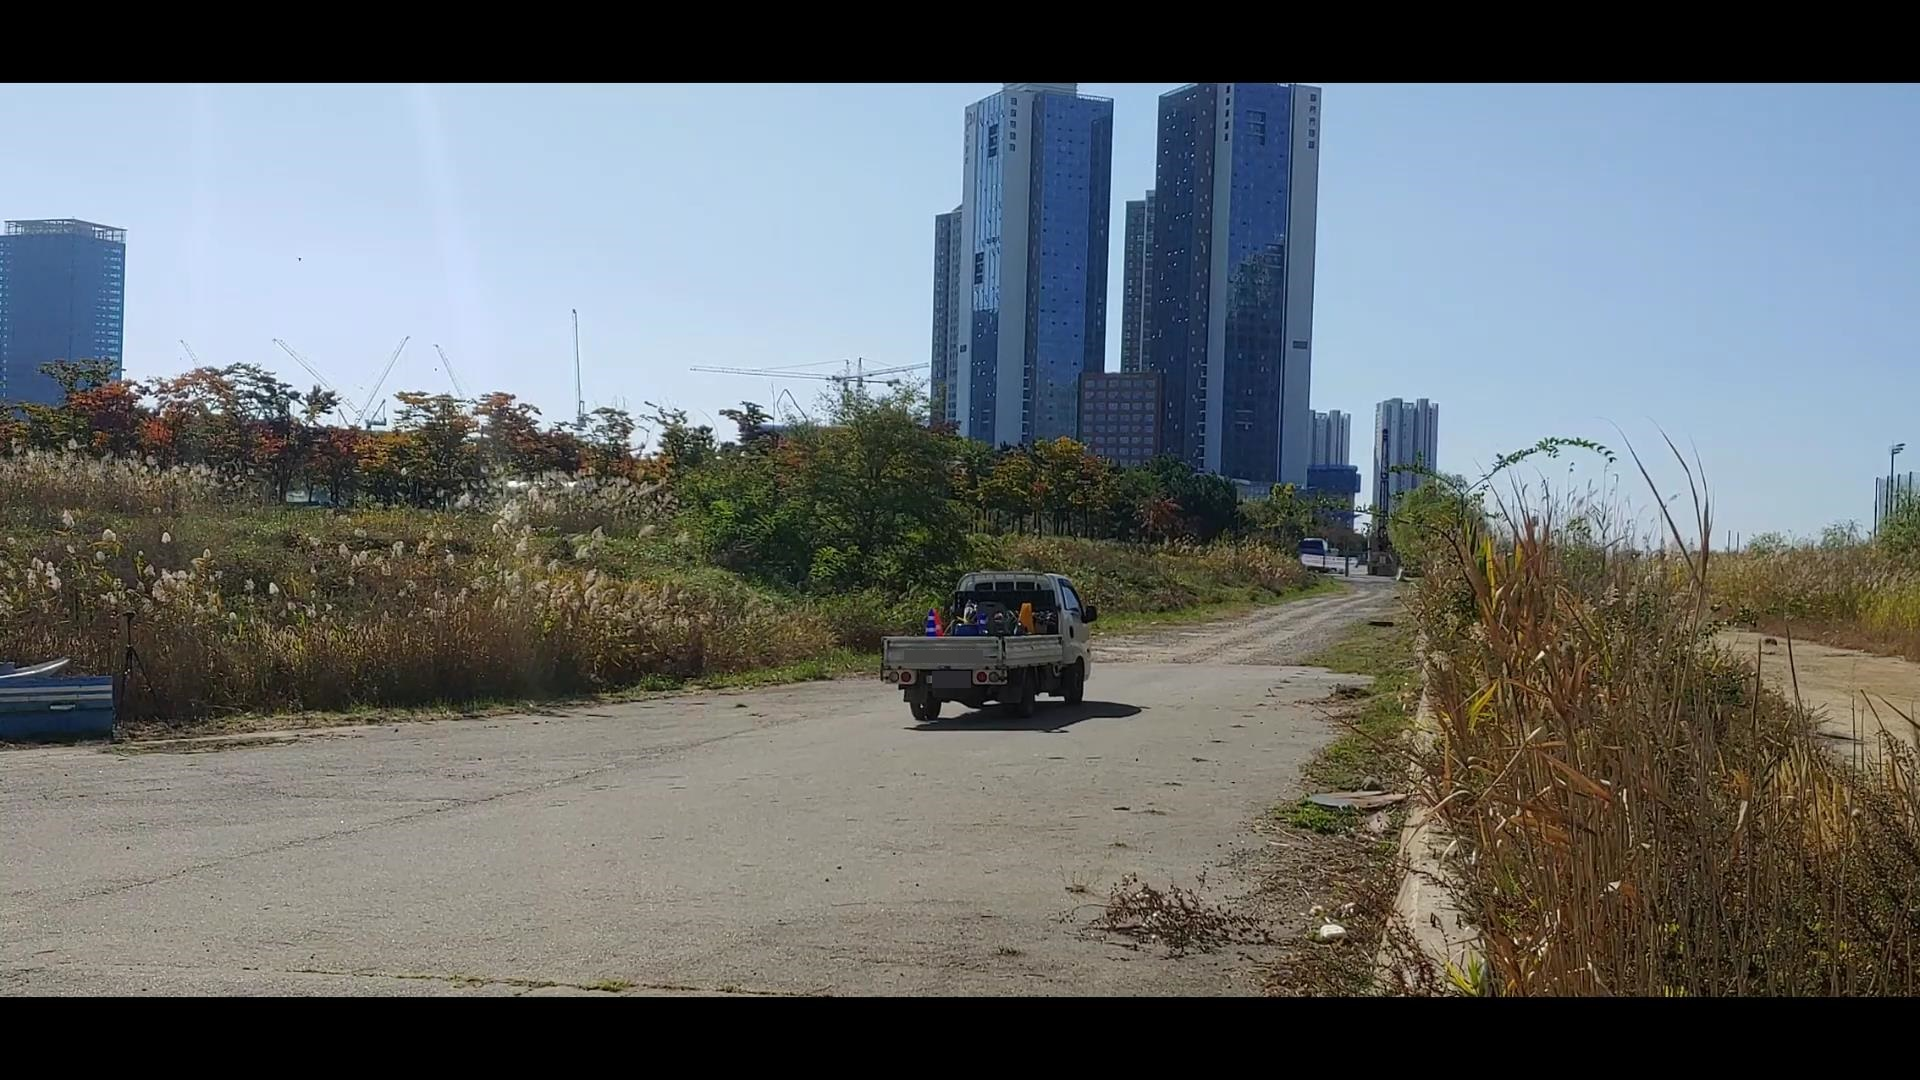불법차량: (881, 572, 1097, 720)
